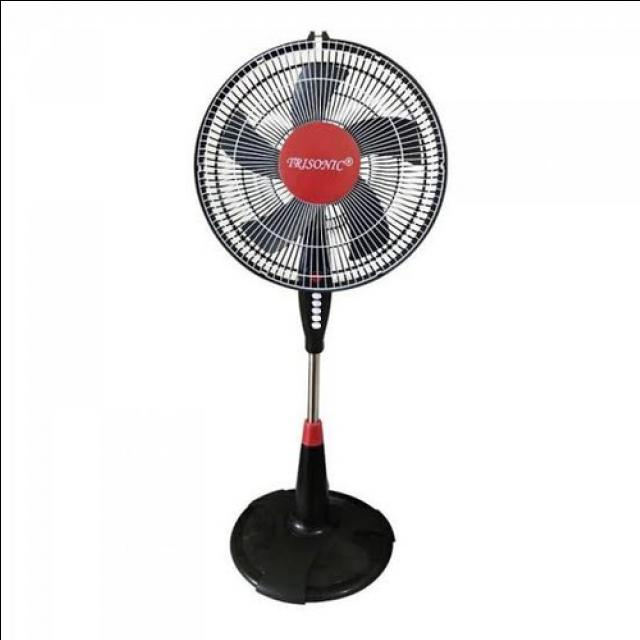fan: (190, 24, 452, 603)
